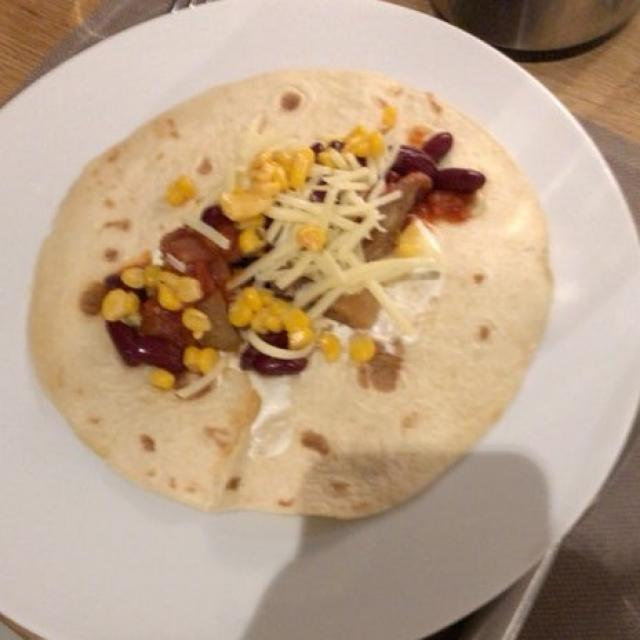beans: (403, 134, 499, 190)
cheese: (242, 172, 442, 330)
pork: (206, 183, 421, 345)
sour-cream: (253, 313, 414, 422)
sweet-corn-canned: (107, 255, 344, 350)
